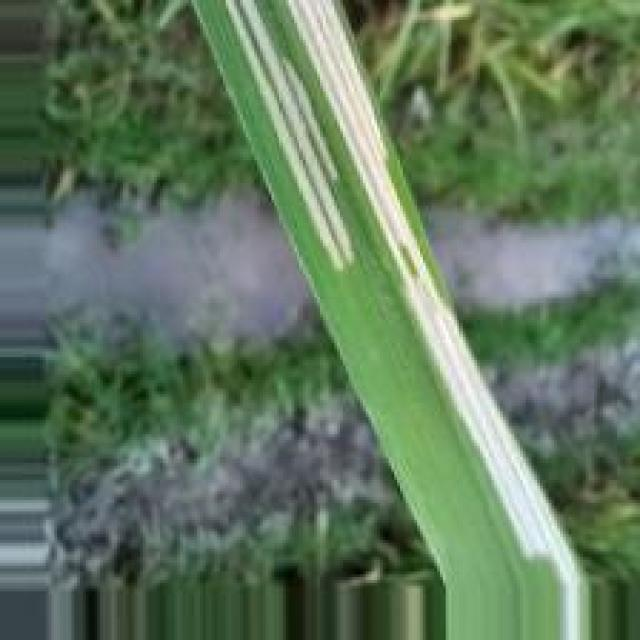Rice_Hispa: (288, 0, 589, 640), (221, 0, 354, 275)
